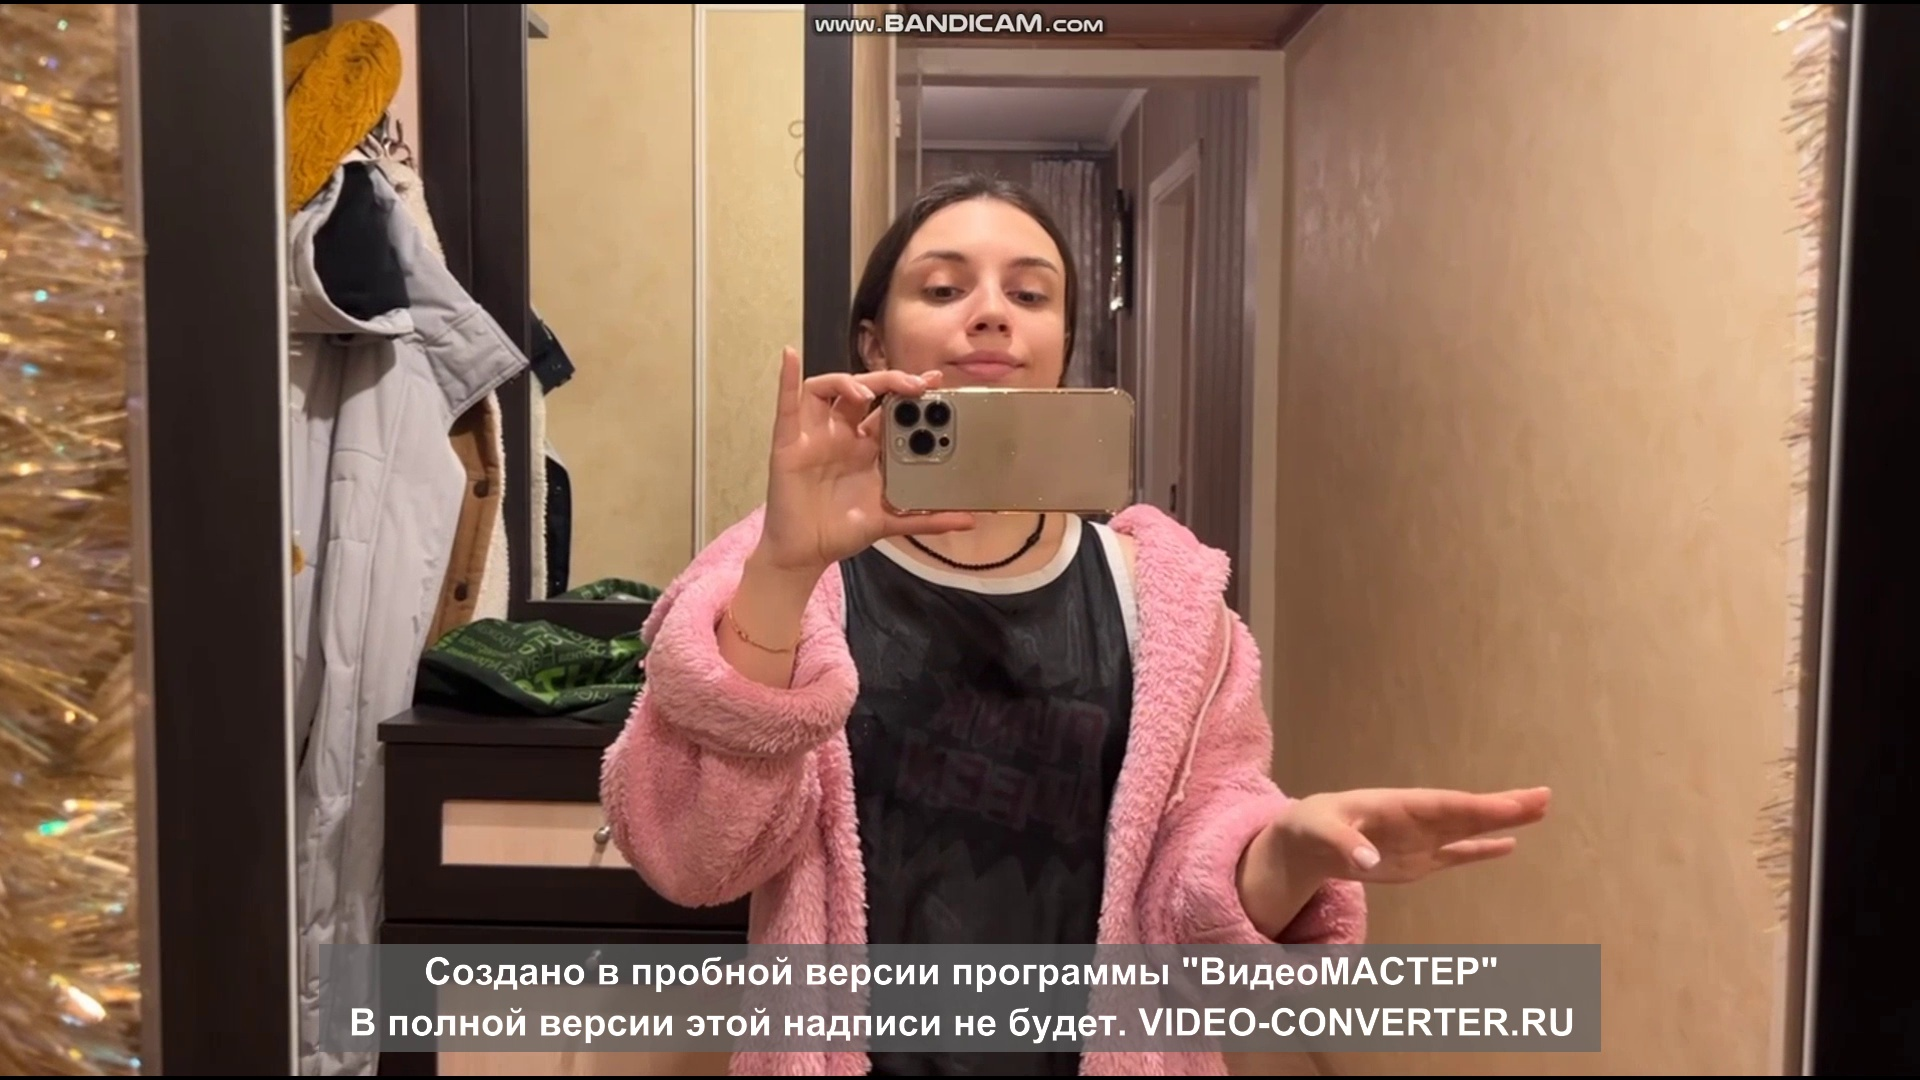Ладонь: (1291, 785, 1551, 886)
